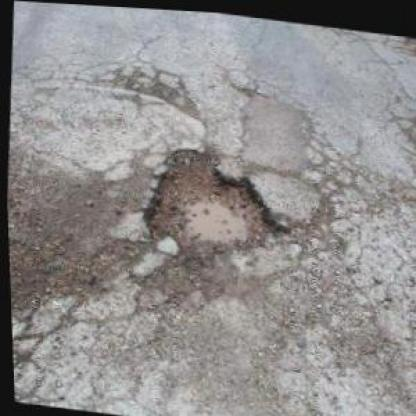pothole: (132, 133, 294, 275)
